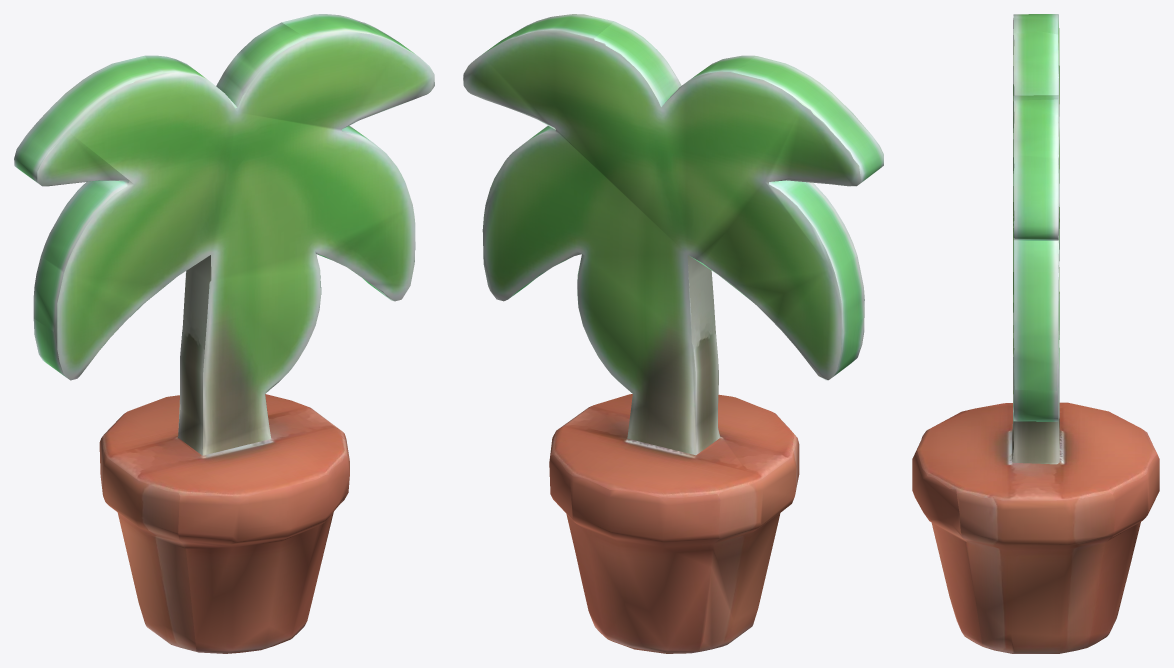
File: palm.glb
3 renders of one model, left to right at view 1: azimuth 30°, elevation 25°; view 2: azimuth 150°, elevation 25°; view 3: azimuth 270°, elevation 25°, orthographic. The views are drawn at different scales.
Visible parts, largest first — view 1: tmplmapa28v.ply; view 2: tmplmapa28v.ply; view 3: tmplmapa28v.ply.
Part boxes in pixels (bbox=[...]): tmplmapa28v.ply: bbox=[14, 14, 434, 653]; tmplmapa28v.ply: bbox=[463, 14, 883, 653]; tmplmapa28v.ply: bbox=[912, 14, 1159, 653].
Size of the model in its own units: 0.7192 by 0.9872 by 0.3968.
Materials: 1 (1 with a texture image).
